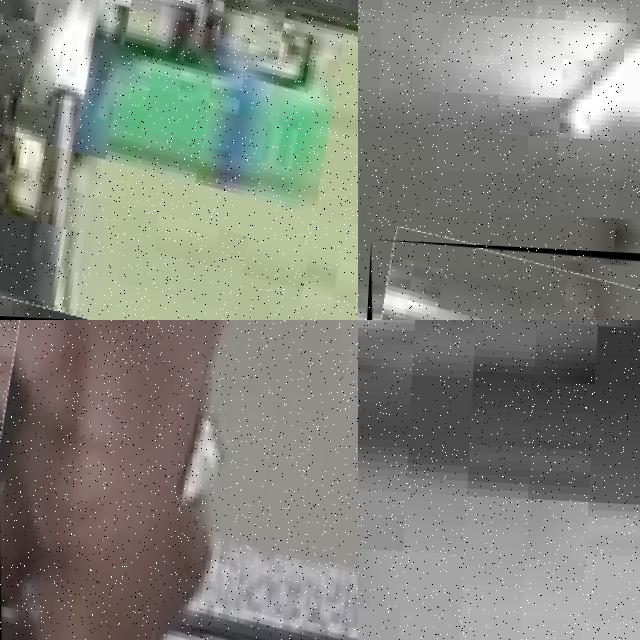drone: (0, 0, 358, 320), (0, 320, 358, 640), (360, 239, 640, 320)
